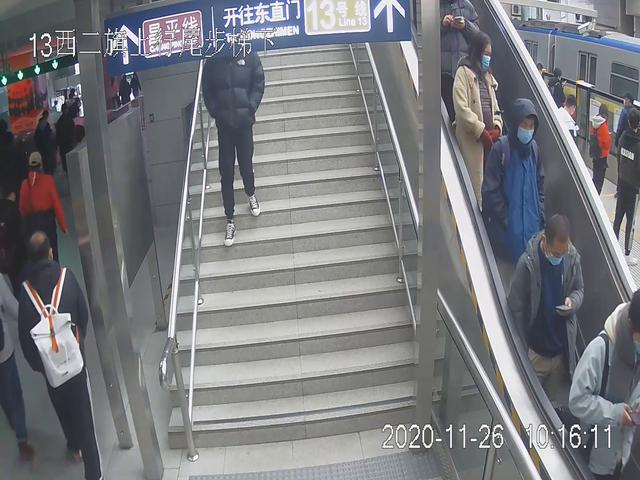person: (13, 228, 106, 480), (509, 207, 585, 433), (479, 95, 551, 309), (199, 40, 264, 252), (451, 26, 504, 222)
